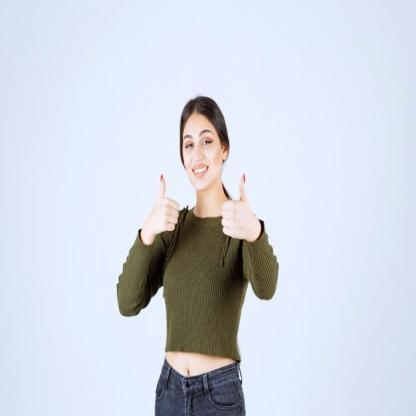thumb_up: (220, 170, 257, 242), (148, 170, 181, 235)
